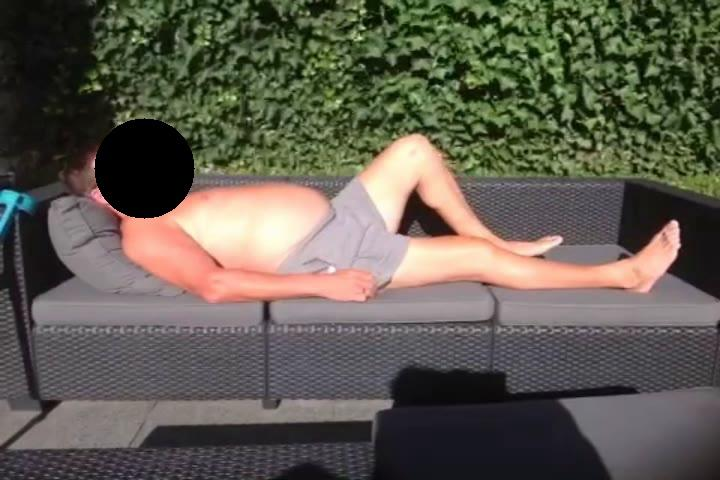lower_body: (314, 134, 685, 300)
